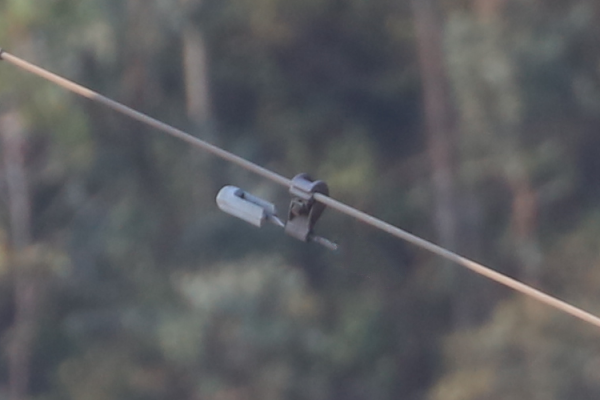damper_defect: (209, 168, 347, 254)
